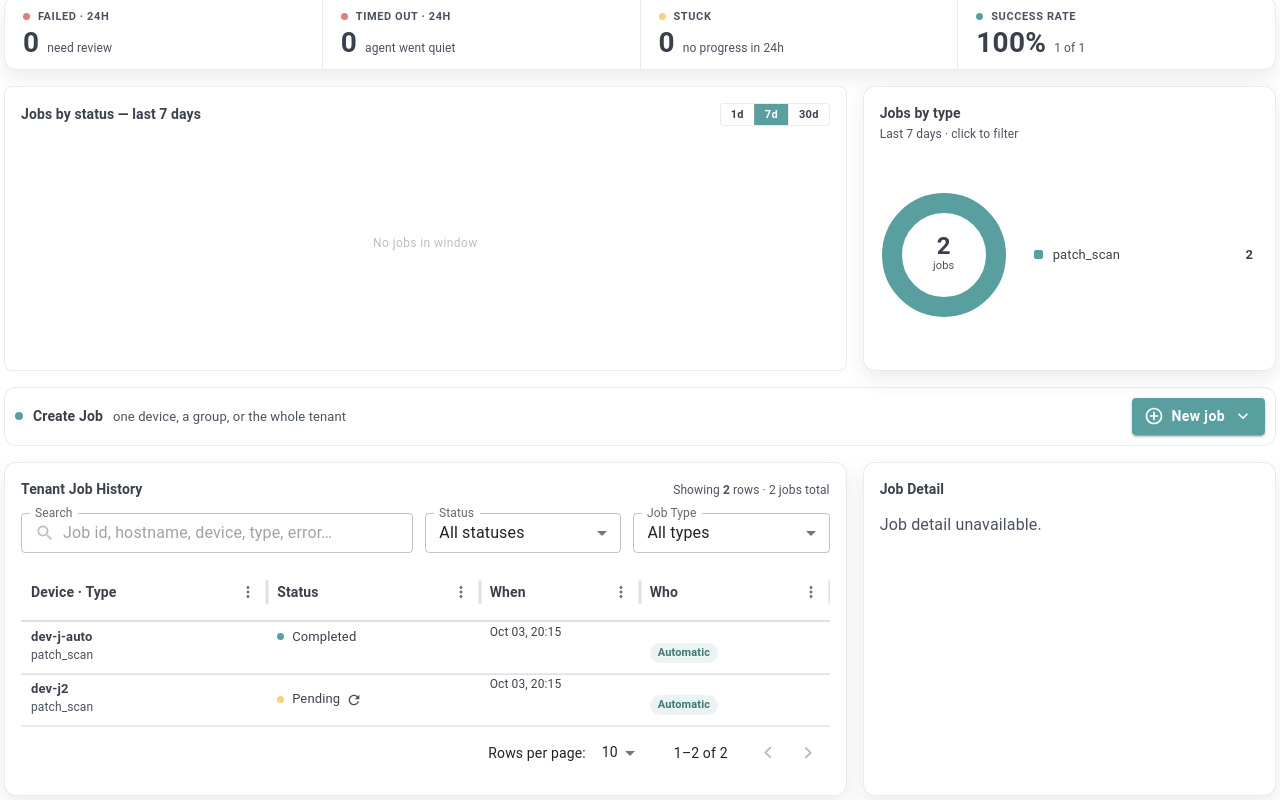
it: refrescar una sola fila del historial › 🔴 cada clic SALE A LA RED: la caché de 60 s no se lo traga
(page scrolled)
Click the button named "refresh this job".
click(354, 700)  # box [344,690,364,710]
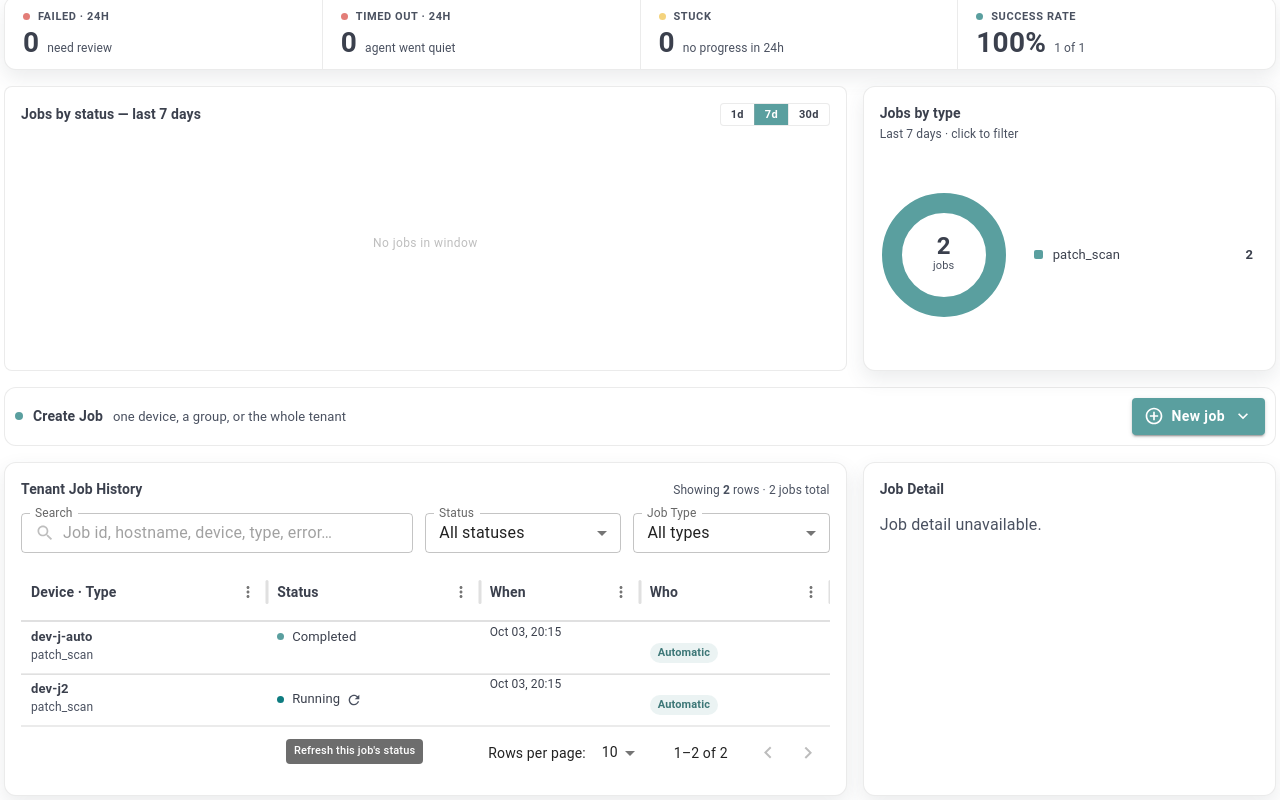
Now the text "Running" is shown, box [292,689,340,709]
Click the button named "refresh this job".
click(354, 700)  # box [344,690,364,710]
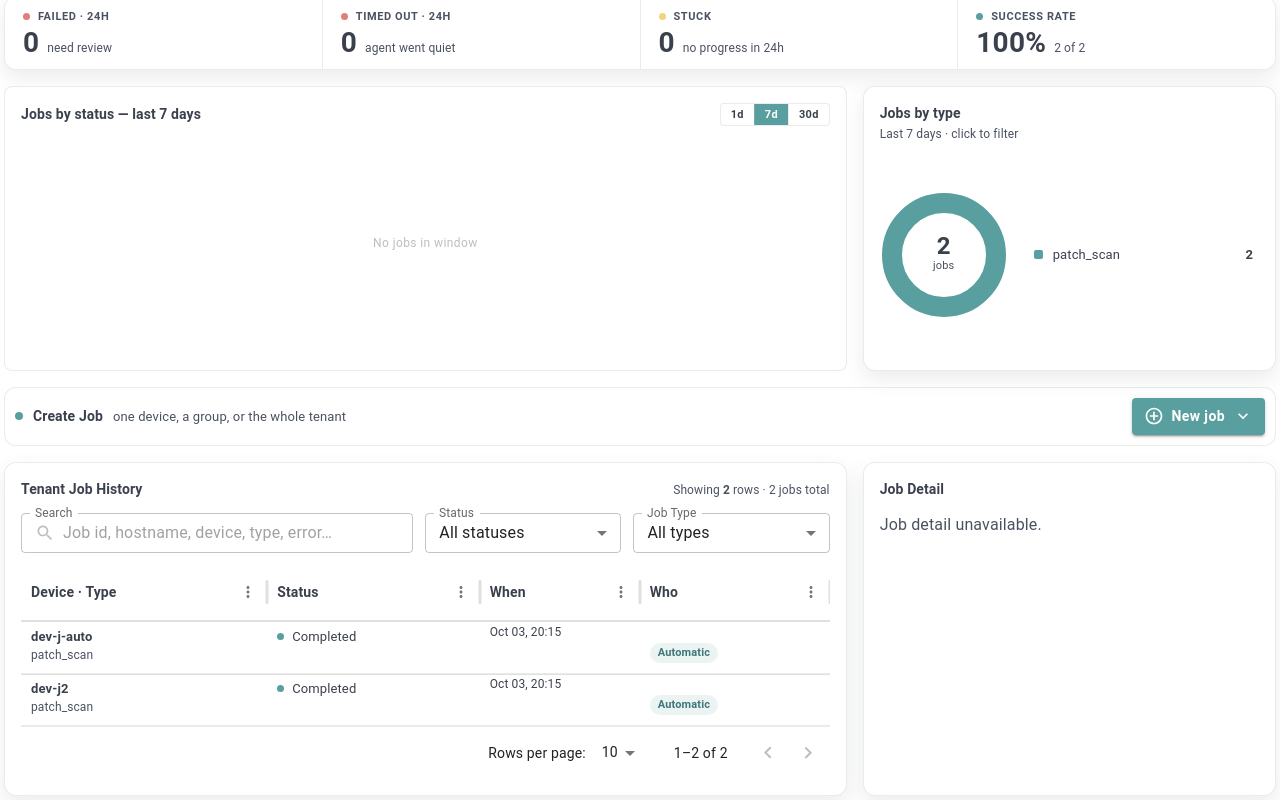
Now the text "Completed" in the row of "dev-j2" is shown, box [292,681,356,696]
